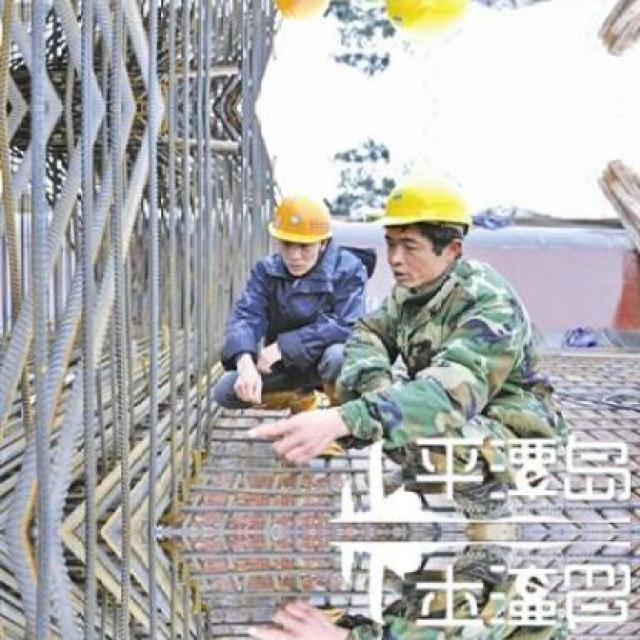helmet: (368, 158, 482, 288), (368, 0, 483, 59), (264, 184, 338, 274), (264, 0, 340, 32)
